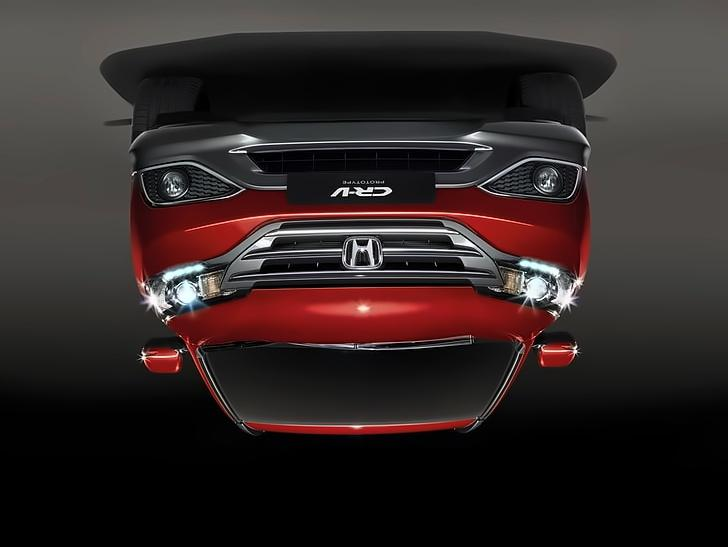Car hood: (166, 281, 554, 351)
Front bumper: (121, 93, 597, 275)
Headlight - -L-: (144, 251, 243, 335)
Headlight - -R-: (492, 254, 583, 323)
Side mirror - -L-: (134, 342, 188, 378)
Side mirror - -R-: (528, 336, 582, 369)
